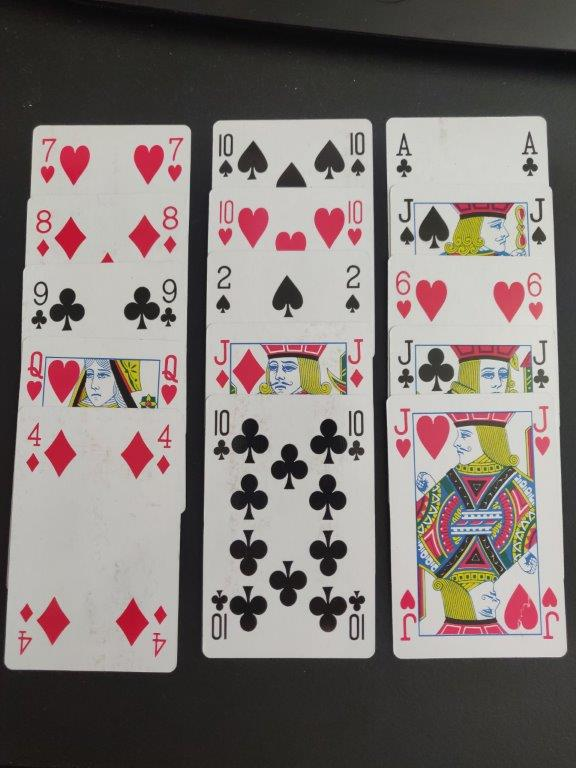10C: (342, 404, 368, 468), (207, 403, 231, 463)
10H: (211, 196, 237, 249), (344, 195, 367, 249)
10S: (344, 126, 370, 182), (213, 129, 238, 180)
2S: (211, 260, 235, 318), (341, 260, 364, 318)
4D: (152, 418, 176, 479), (23, 417, 46, 474)
6H: (522, 269, 550, 322), (391, 266, 414, 323)
7H: (34, 135, 59, 187), (165, 133, 187, 184)
8D: (30, 204, 57, 261), (159, 200, 181, 260)
9C: (158, 274, 179, 335), (28, 278, 49, 334)
AC: (514, 127, 542, 182), (391, 126, 417, 184)
JC: (389, 335, 418, 391), (528, 337, 553, 395)
JD: (209, 334, 234, 395), (345, 334, 368, 391)
JH: (389, 403, 415, 461), (529, 402, 554, 459)
JS: (392, 191, 418, 254), (525, 193, 550, 250)
QH: (23, 342, 49, 400), (159, 349, 182, 413)
